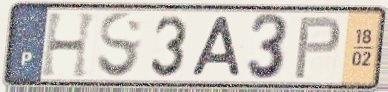3: (244, 12, 292, 83), (149, 13, 190, 79)
A: (188, 14, 243, 79)
H: (39, 10, 101, 80)
P: (291, 14, 344, 82)
S: (95, 10, 145, 81)
